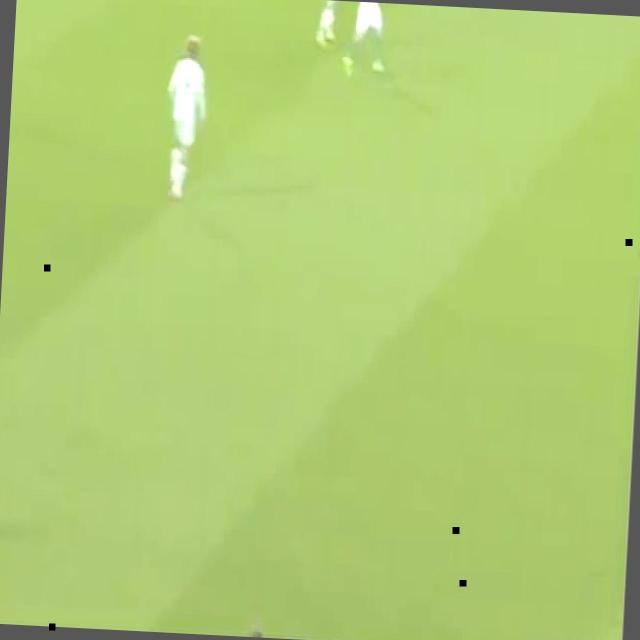player-white: (162, 35, 212, 204), (341, 1, 389, 75), (313, 0, 344, 50)
